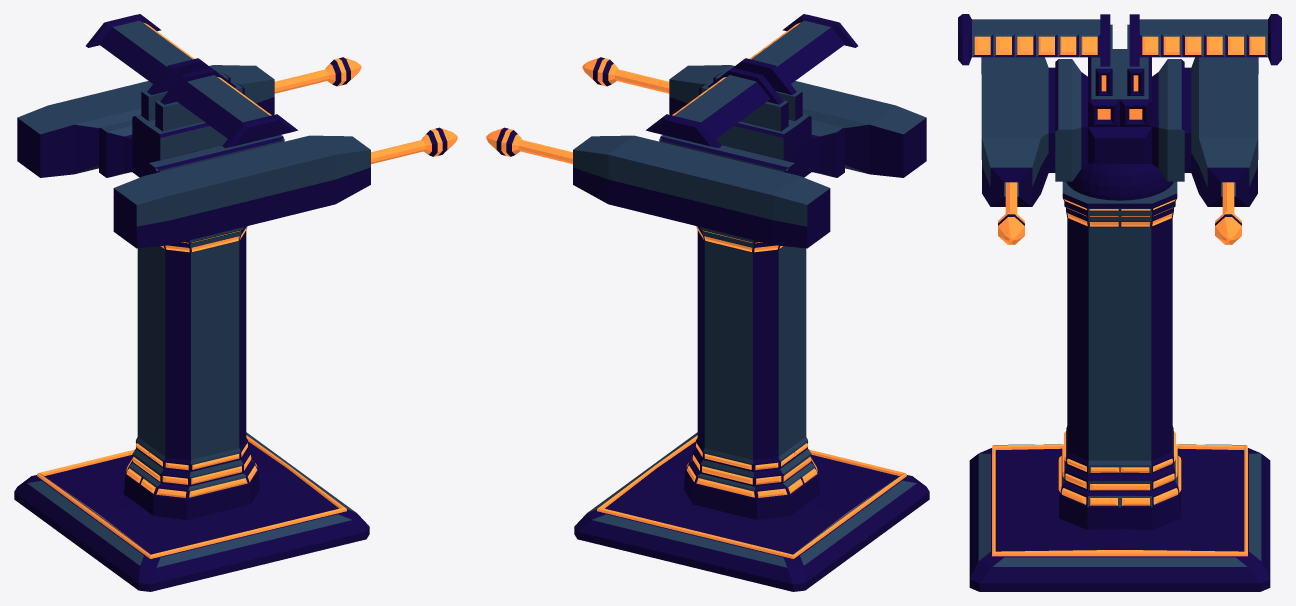
Rendered from lazerTower.fbx.
3 views of the same model, side by side, from view 1: azimuth 30°, elevation 25°; view 2: azimuth 150°, elevation 25°; view 3: azimuth 270°, elevation 25° (orthographic). The views are drawn at different scales.
Visible parts, largest first — view 1: turret, pillar, base; view 2: turret, pillar, base; view 3: turret, pillar, base, sphere.
Boxes of the visible parts, bbox=[...] form: turret: bbox=[17, 14, 457, 248]; pillar: bbox=[124, 226, 259, 519]; base: bbox=[14, 432, 369, 591]; turret: bbox=[486, 14, 926, 248]; pillar: bbox=[684, 226, 819, 519]; base: bbox=[574, 432, 929, 591]; turret: bbox=[958, 14, 1281, 244]; pillar: bbox=[1058, 181, 1181, 529]; base: bbox=[969, 444, 1270, 591]; sphere: bbox=[1066, 164, 1173, 200].
Bounding box in the file's own units: 215 × 371 × 288.
